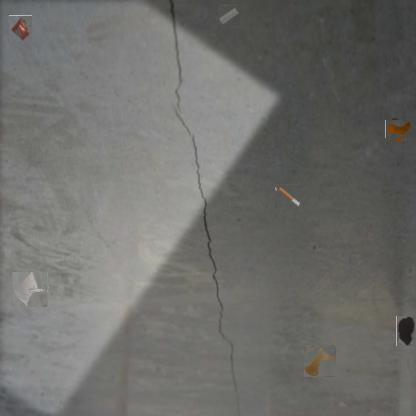dirty: (12, 271, 48, 307), (8, 15, 32, 42), (276, 184, 300, 208), (388, 118, 410, 141), (219, 5, 239, 25)
liquid: (304, 345, 336, 377), (396, 316, 415, 346)
